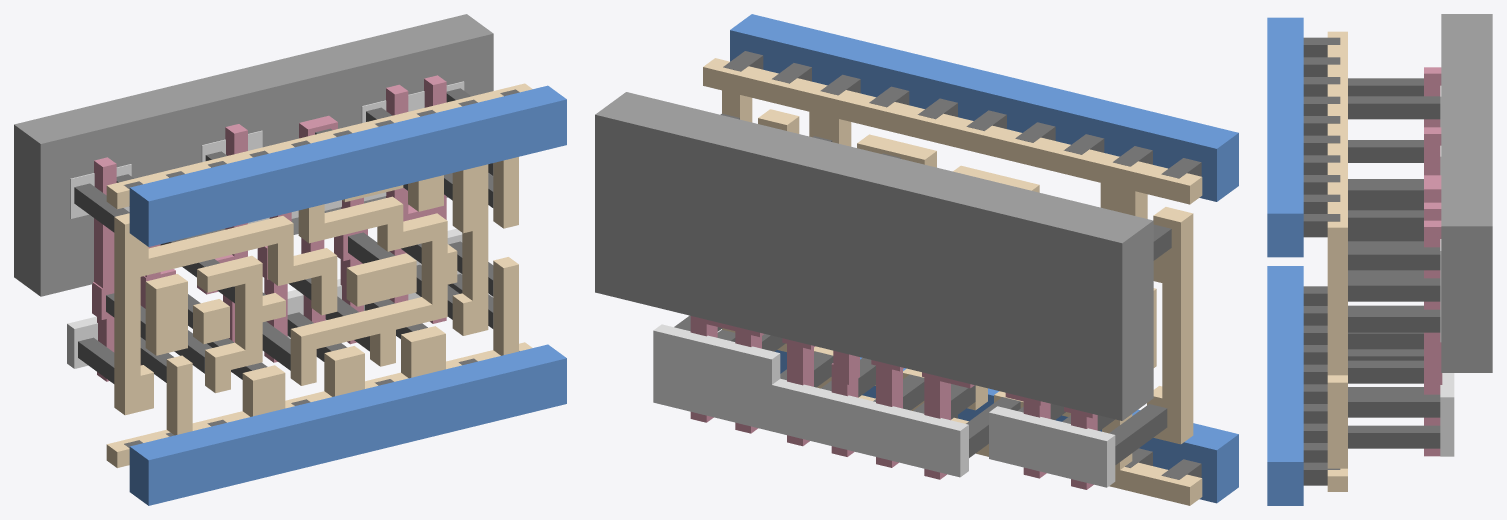
The model's file is sky130_fd_sc_hd__or4bb_2.gds.gltf.
3 renders of one model, left to right at view 1: azimuth 30°, elevation 25°; view 2: azimuth 150°, elevation 25°; view 3: azimuth 270°, elevation 25°, orthographic. The views are drawn at different scales.
Visible parts, largest first — view 1: sky130_fd_sc_hd__or4bb_2_li1, sky130_fd_sc_hd__or4bb_2_met1, sky130_fd_sc_hd__or4bb_2_nwell, sky130_fd_sc_hd__or4bb_2_licon, sky130_fd_sc_hd__or4bb_2_poly, sky130_fd_sc_hd__or4bb_2_diff, sky130_fd_sc_hd__or4bb_2_mcon; view 2: sky130_fd_sc_hd__or4bb_2_nwell, sky130_fd_sc_hd__or4bb_2_li1, sky130_fd_sc_hd__or4bb_2_met1, sky130_fd_sc_hd__or4bb_2_diff, sky130_fd_sc_hd__or4bb_2_poly, sky130_fd_sc_hd__or4bb_2_licon, sky130_fd_sc_hd__or4bb_2_mcon; view 3: sky130_fd_sc_hd__or4bb_2_licon, sky130_fd_sc_hd__or4bb_2_nwell, sky130_fd_sc_hd__or4bb_2_met1, sky130_fd_sc_hd__or4bb_2_mcon, sky130_fd_sc_hd__or4bb_2_li1, sky130_fd_sc_hd__or4bb_2_poly, sky130_fd_sc_hd__or4bb_2_diff.
Boxes of the visible parts, <box> form: sky130_fd_sc_hd__or4bb_2_li1: <box>106,83,532,467</box>; sky130_fd_sc_hd__or4bb_2_met1: <box>129,85,566,505</box>; sky130_fd_sc_hd__or4bb_2_nwell: <box>14,14,493,296</box>; sky130_fd_sc_hd__or4bb_2_licon: <box>74,88,493,383</box>; sky130_fd_sc_hd__or4bb_2_poly: <box>92,75,446,381</box>; sky130_fd_sc_hd__or4bb_2_diff: <box>67,81,464,368</box>; sky130_fd_sc_hd__or4bb_2_mcon: <box>124,89,519,447</box>; sky130_fd_sc_hd__or4bb_2_nwell: <box>595,92,1153,420</box>; sky130_fd_sc_hd__or4bb_2_li1: <box>703,58,1202,505</box>; sky130_fd_sc_hd__or4bb_2_met1: <box>730,14,1238,503</box>; sky130_fd_sc_hd__or4bb_2_diff: <box>653,324,1115,487</box>; sky130_fd_sc_hd__or4bb_2_poly: <box>690,316,1097,489</box>; sky130_fd_sc_hd__or4bb_2_licon: <box>674,113,1171,464</box>; sky130_fd_sc_hd__or4bb_2_mcon: <box>723,51,1201,479</box>; sky130_fd_sc_hd__or4bb_2_licon: <box>1348,78,1440,448</box>; sky130_fd_sc_hd__or4bb_2_nwell: <box>1441,14,1492,372</box>; sky130_fd_sc_hd__or4bb_2_met1: <box>1267,17,1303,505</box>; sky130_fd_sc_hd__or4bb_2_mcon: <box>1303,37,1340,485</box>; sky130_fd_sc_hd__or4bb_2_li1: <box>1327,31,1347,491</box>; sky130_fd_sc_hd__or4bb_2_poly: <box>1424,67,1442,456</box>; sky130_fd_sc_hd__or4bb_2_diff: <box>1440,85,1454,456</box>.
Bounding box in the file's own units: 4.98 × 3.2 × 2.24.
